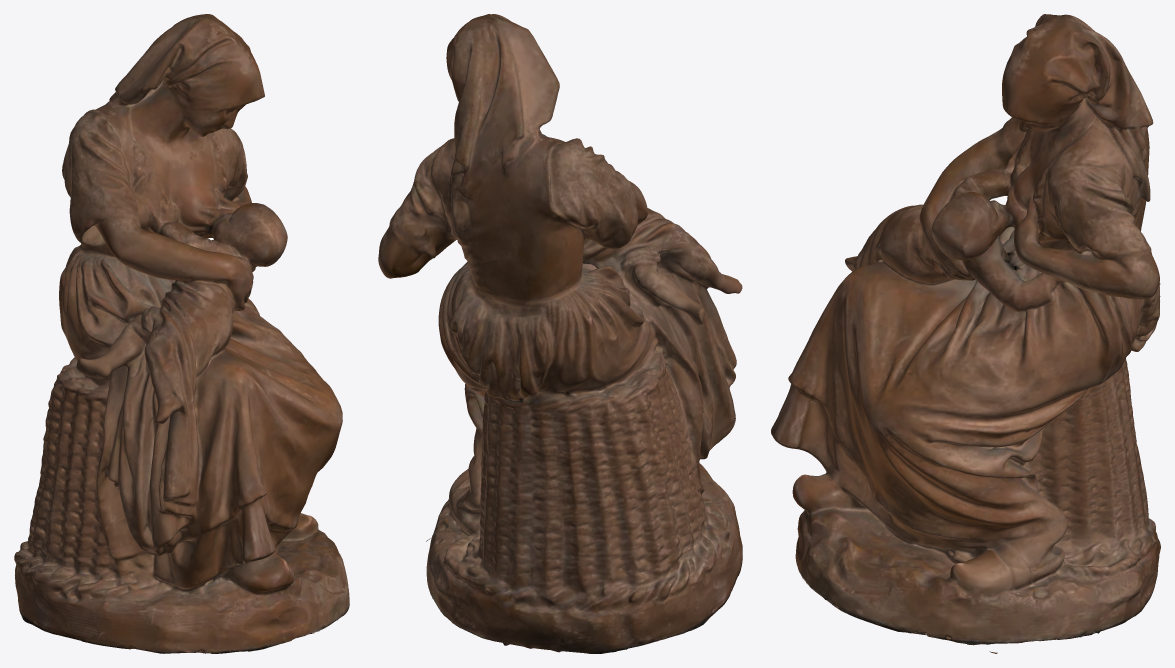
Rendered from preview.glb.
3 views of the same model, side by side, from view 1: azimuth 30°, elevation 25°; view 2: azimuth 150°, elevation 25°; view 3: azimuth 270°, elevation 25° (orthographic). The views are drawn at different scales.
Visible parts, largest first — view 1: Object_2; view 2: Object_2; view 3: Object_2.
Boxes of the visible parts, left/top/right/bottom form: Object_2: left=14, top=14, right=349, bottom=653; Object_2: left=378, top=14, right=742, bottom=653; Object_2: left=771, top=14, right=1160, bottom=653.
Bounding box in the file's own units: 264 × 499 × 294.
Materials: 1 (1 with a texture image).
